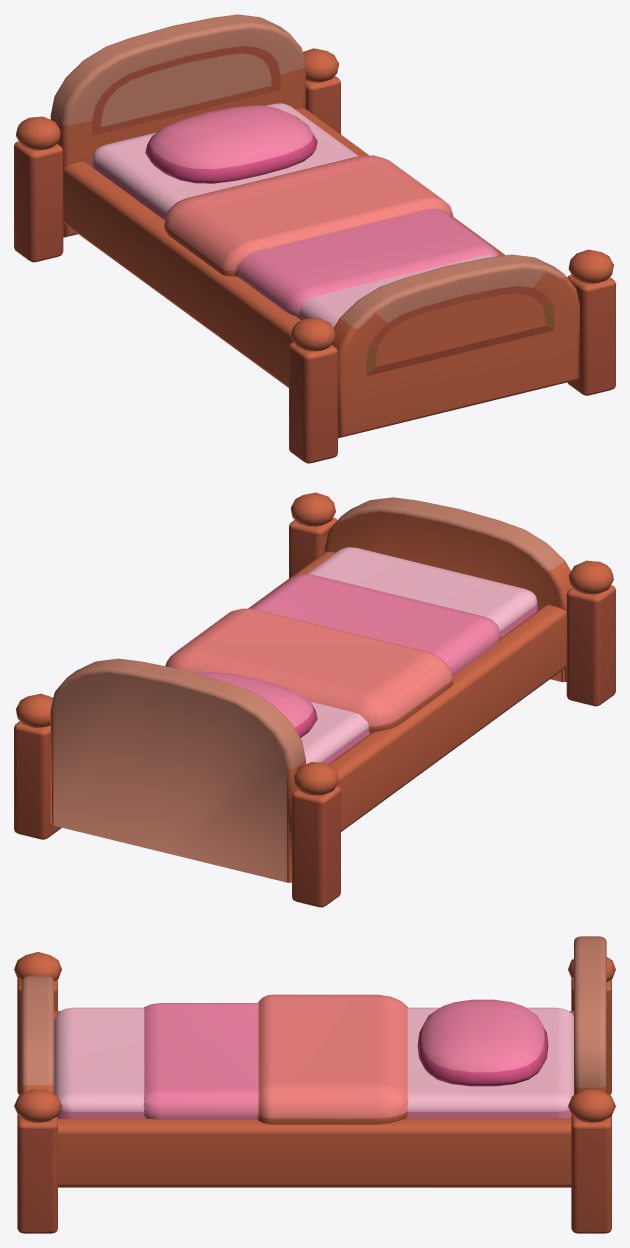
The model's file is cama_solteiro_classica_terracota_pacote.glb.
3 renders of one model, top to bottom at view 1: azimuth 30°, elevation 25°; view 2: azimuth 150°, elevation 25°; view 3: azimuth 270°, elevation 25°, orthographic.
Parts seen in each view (by area): view 1: cama_solteiro_classica_terracota_pacote; view 2: cama_solteiro_classica_terracota_pacote; view 3: cama_solteiro_classica_terracota_pacote.
Part boxes in pixels (x1,y1,x2,y2): cama_solteiro_classica_terracota_pacote: (14,14,615,463); cama_solteiro_classica_terracota_pacote: (14,492,615,907); cama_solteiro_classica_terracota_pacote: (14,936,615,1233).
Bounding box in the file's own units: 1.33 × 0.765 × 2.18.
Materials: 1 (1 with a texture image).
